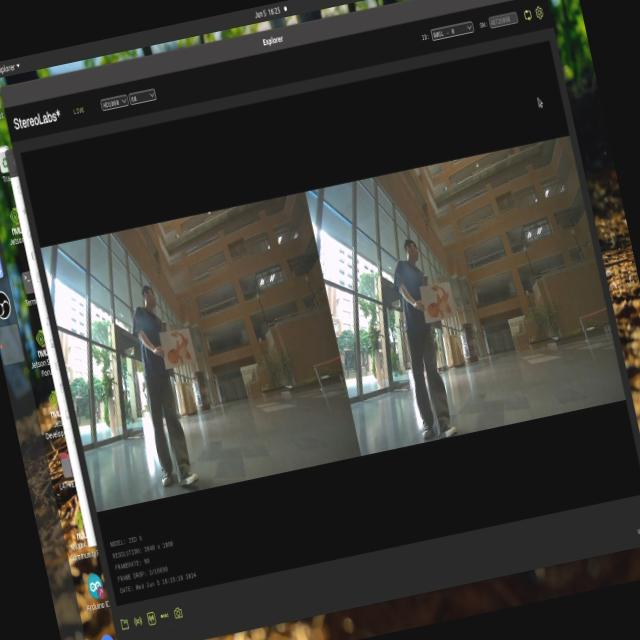red: (425, 280, 461, 327), (163, 330, 194, 371)
